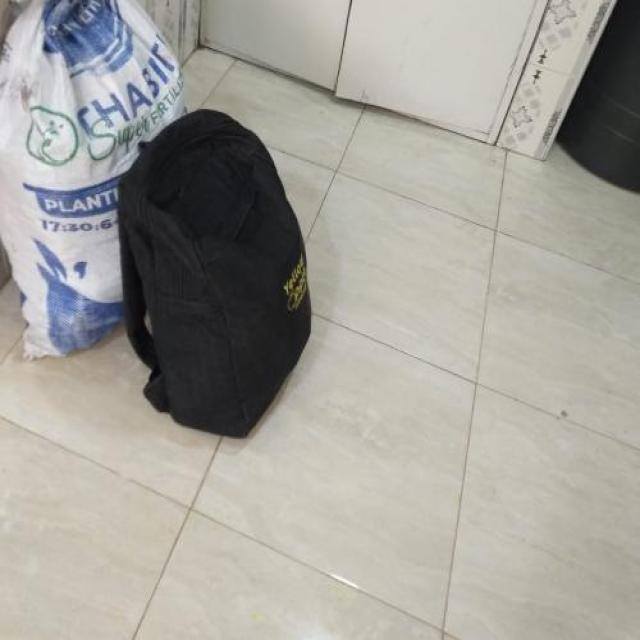canta: (116, 109, 312, 438)
